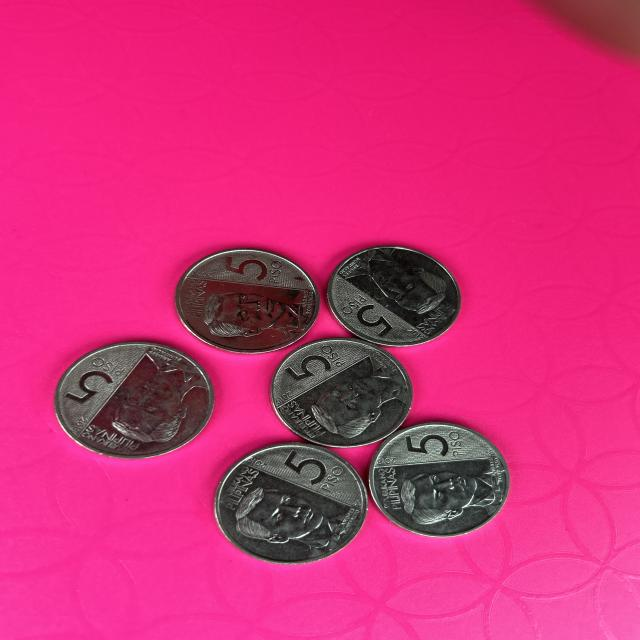5_New_Front: (62, 356, 134, 408), (209, 248, 290, 290), (338, 288, 404, 336), (402, 427, 478, 463), (283, 444, 341, 491), (286, 345, 344, 377)
